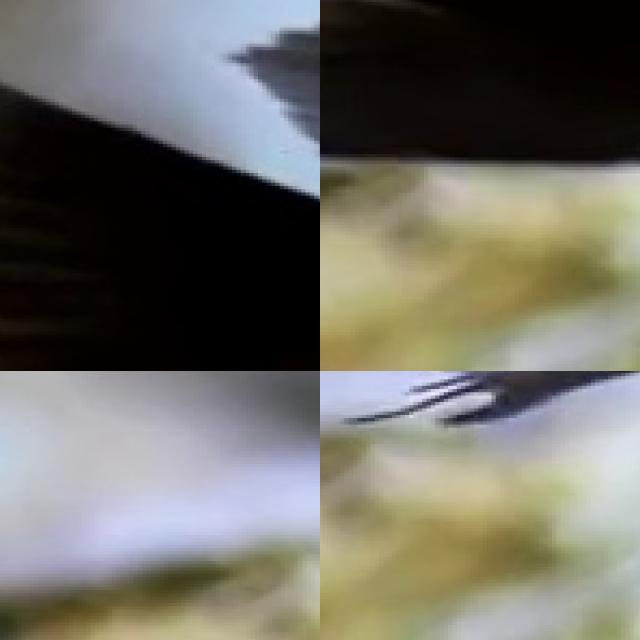fish: (0, 0, 320, 371), (320, 0, 640, 186)
